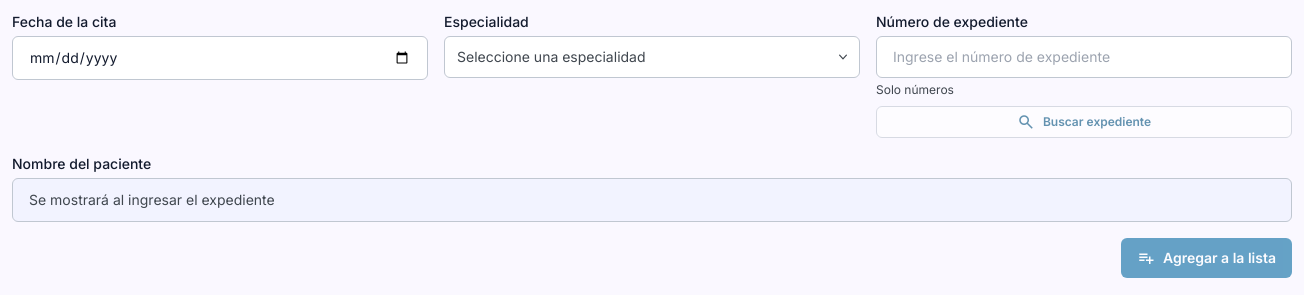
FormularioCita › un click en "Buscar expediente" realiza exactamente una consulta
In the field labelled "Número de expediente Solo números": point(1084, 57) [876, 36, 1292, 78], type "999999999999"
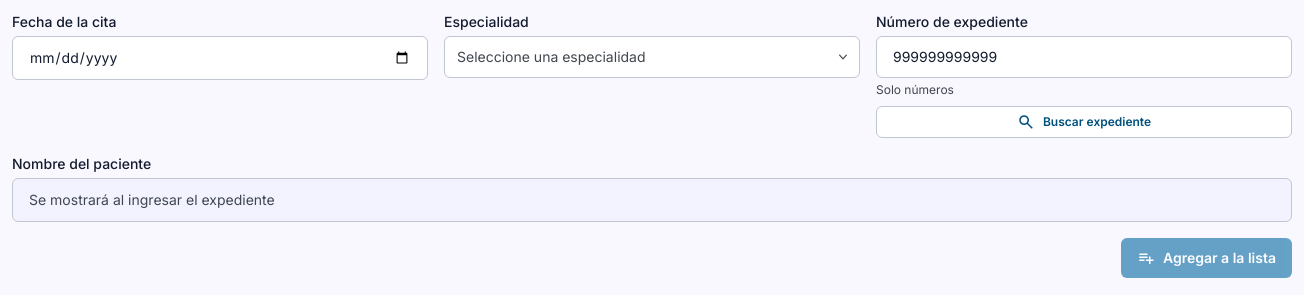
Click the button "Buscar expediente": point(1084, 122) [876, 106, 1292, 138]
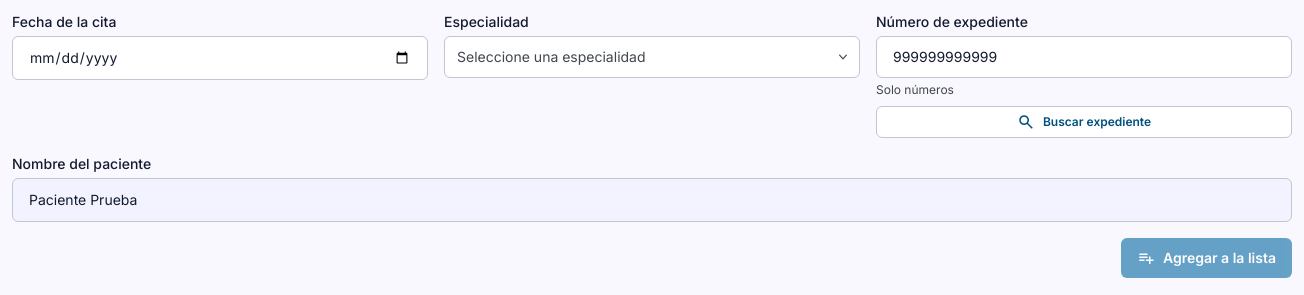
Expected: the text with test id "nombre-paciente" reads "Paciente Prueba", [29, 191, 137, 208]
